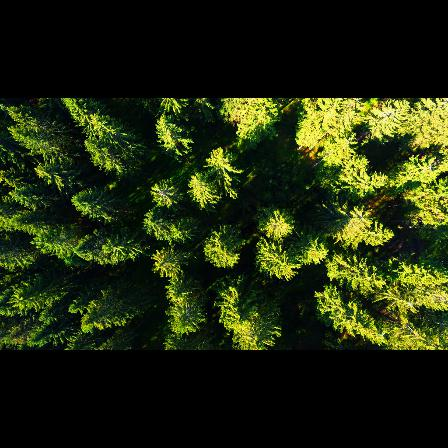Sick: (150, 180, 173, 204)
